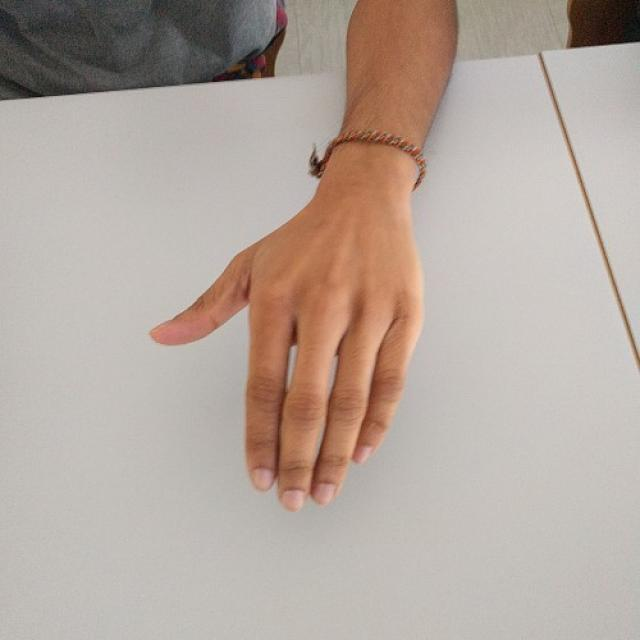paper: (150, 184, 423, 512)
